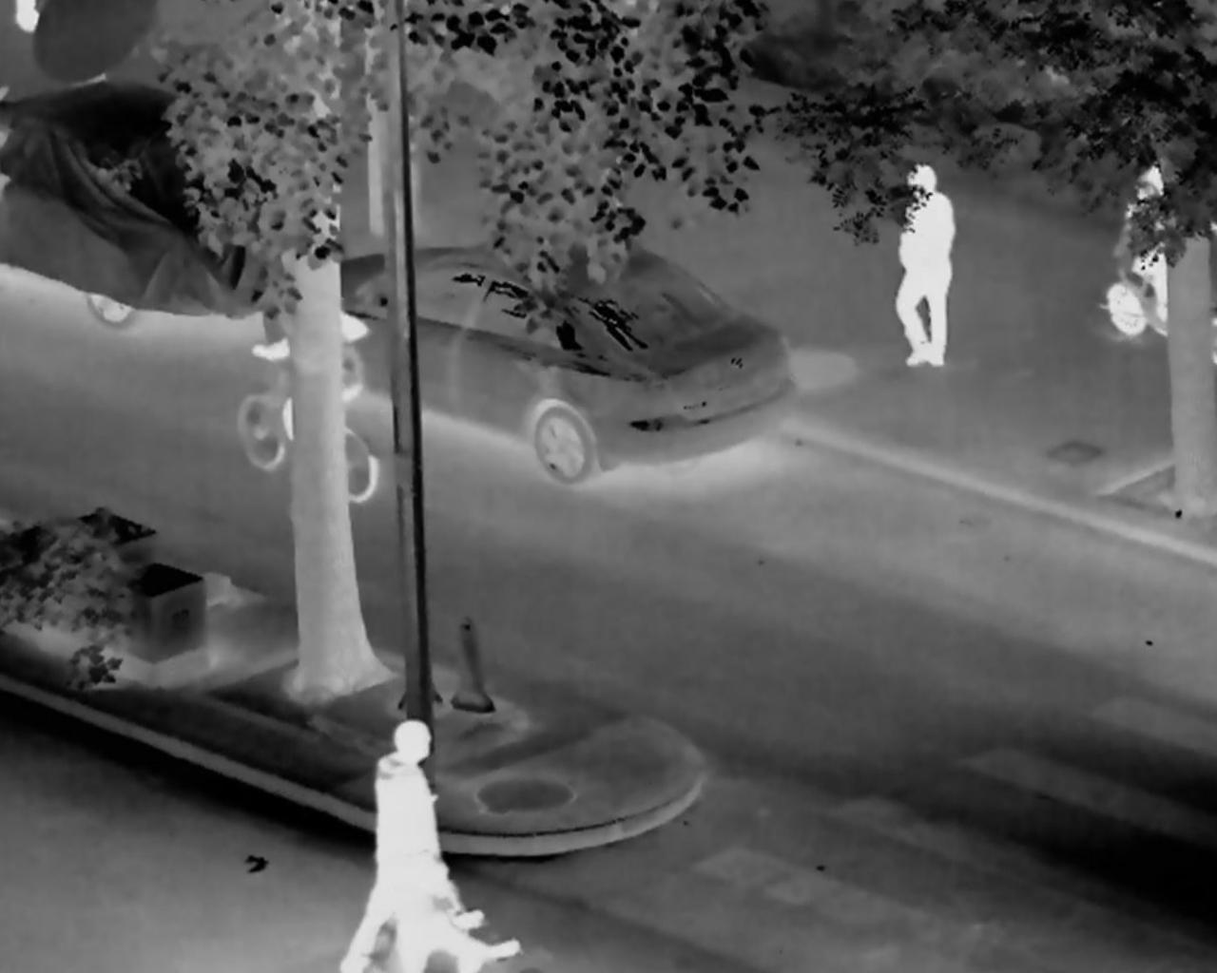person: (343, 718, 440, 971), (262, 292, 367, 459), (397, 854, 521, 973), (897, 162, 956, 368), (1131, 162, 1190, 328)
